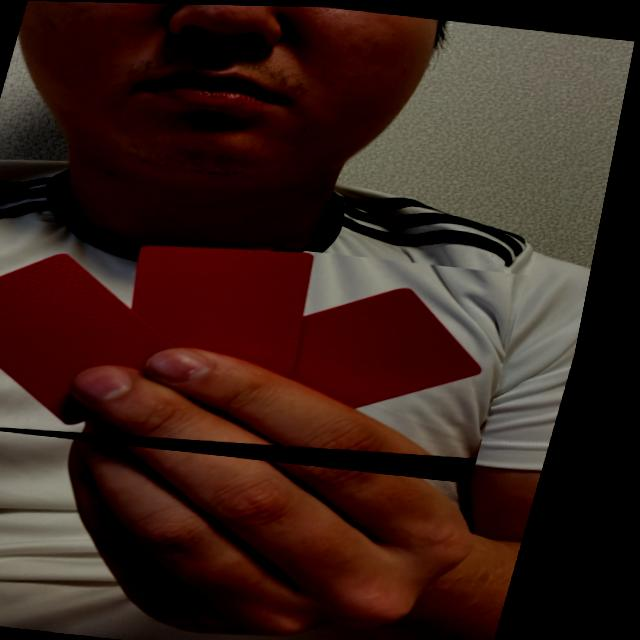hwatoo: (0, 214, 546, 481)
